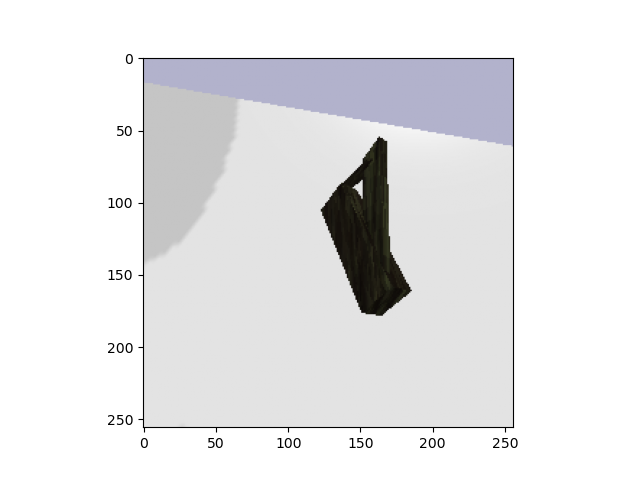v249b387_109: (305, 131, 425, 325)
